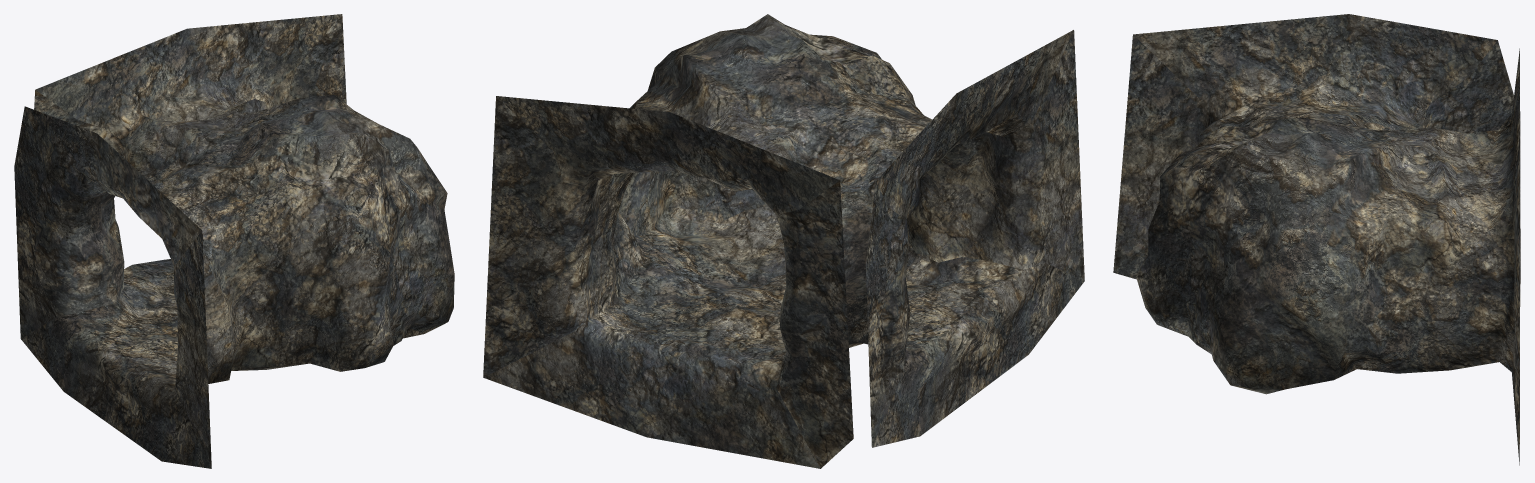
The model's file is Module9.fbx.
The picture shows the model from 3 angles, left to right: view 1: azimuth 30°, elevation 25°; view 2: azimuth 150°, elevation 25°; view 3: azimuth 270°, elevation 25°; orthographic projection. The views are drawn at different scales.
Parts seen in each view (by area): view 1: cave_el9_800:Group30361; view 2: cave_el9_800:Group30361; view 3: cave_el9_800:Group30361.
Part boxes in pixels (bbox=[...]): cave_el9_800:Group30361: bbox=[14, 14, 454, 468]; cave_el9_800:Group30361: bbox=[483, 14, 1084, 468]; cave_el9_800:Group30361: bbox=[1113, 14, 1520, 465].
Size of the model in its own units: 10.2 by 8.34 by 10.11.
